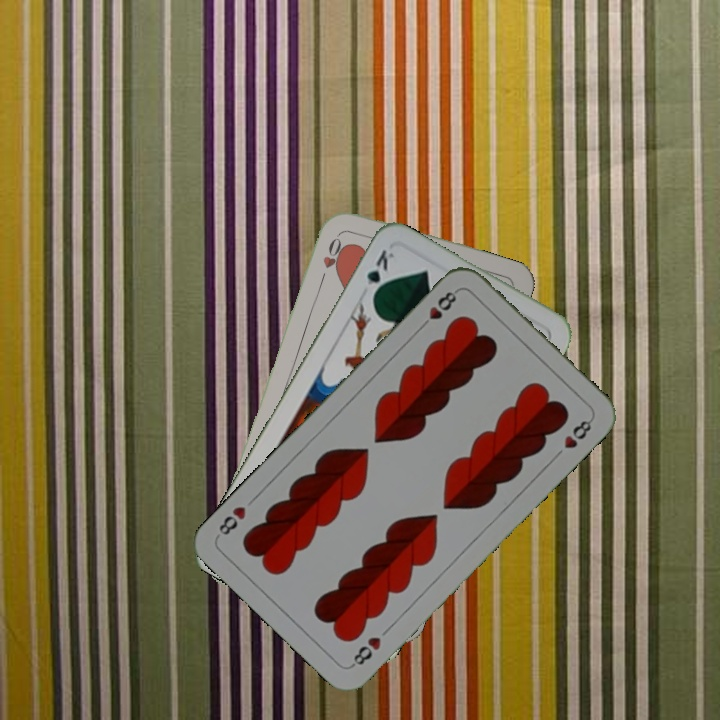GK: (361, 245, 397, 302)
H8: (415, 286, 461, 332), (347, 633, 384, 670)
HO: (316, 229, 344, 286)
